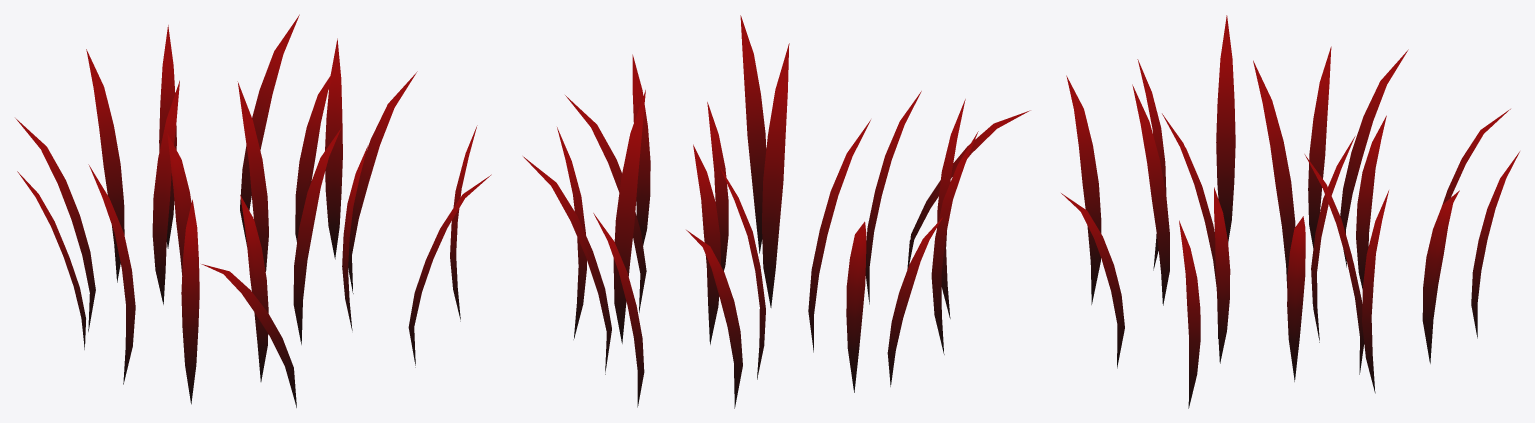
The model's file is GrassModel-2.fbx.
3 renders of one model, left to right at view 1: azimuth 30°, elevation 25°; view 2: azimuth 150°, elevation 25°; view 3: azimuth 270°, elevation 25°, orthographic. The views are drawn at different scales.
Visible parts, largest first — view 1: Grass; view 2: Grass; view 3: Grass.
Boxes of the visible parts, bbox=[...] form: Grass: bbox=[15, 14, 491, 407]; Grass: bbox=[523, 15, 1030, 408]; Grass: bbox=[1061, 15, 1519, 408].
Size of the model in its own units: 226 by 238 by 133.
